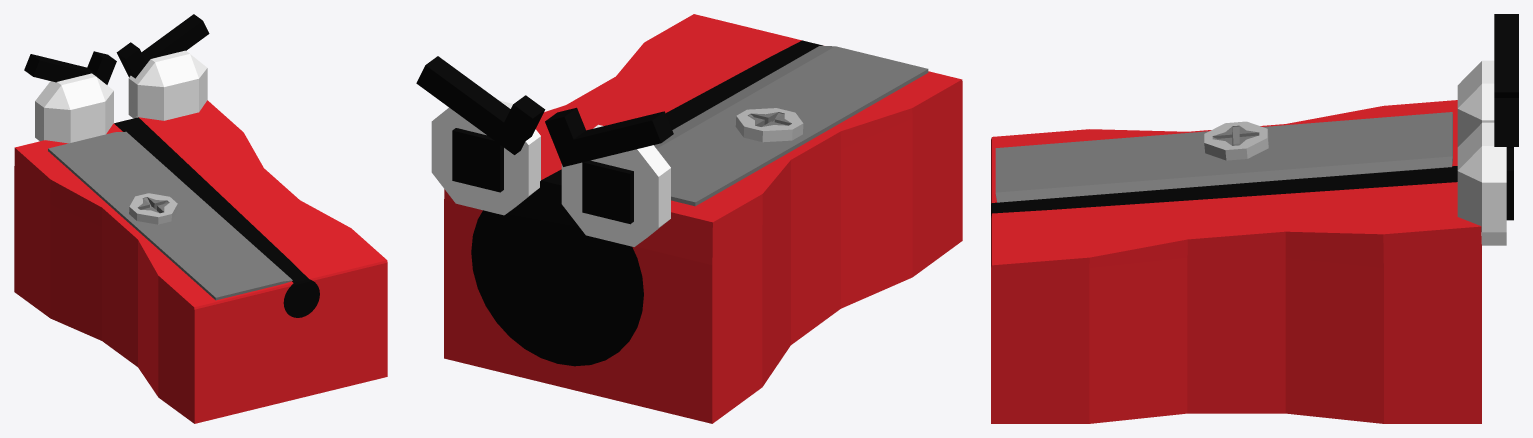
File: SharpenerVar1-1.fbx
3 views of the same model, side by side, from view 1: azimuth 30°, elevation 25°; view 2: azimuth 150°, elevation 25°; view 3: azimuth 270°, elevation 25° (orthographic). The views are drawn at different scales.
Visible parts, largest first — view 1: SharpRed; view 2: SharpRed; view 3: SharpRed.
Part boxes in pixels (left/top/right/bottom): SharpRed: left=14, top=14, right=387, bottom=423; SharpRed: left=416, top=14, right=962, bottom=423; SharpRed: left=991, top=14, right=1518, bottom=423.
Size of the model in its own units: 215 by 128 by 135.
Materials: 1 (1 with a texture image).
